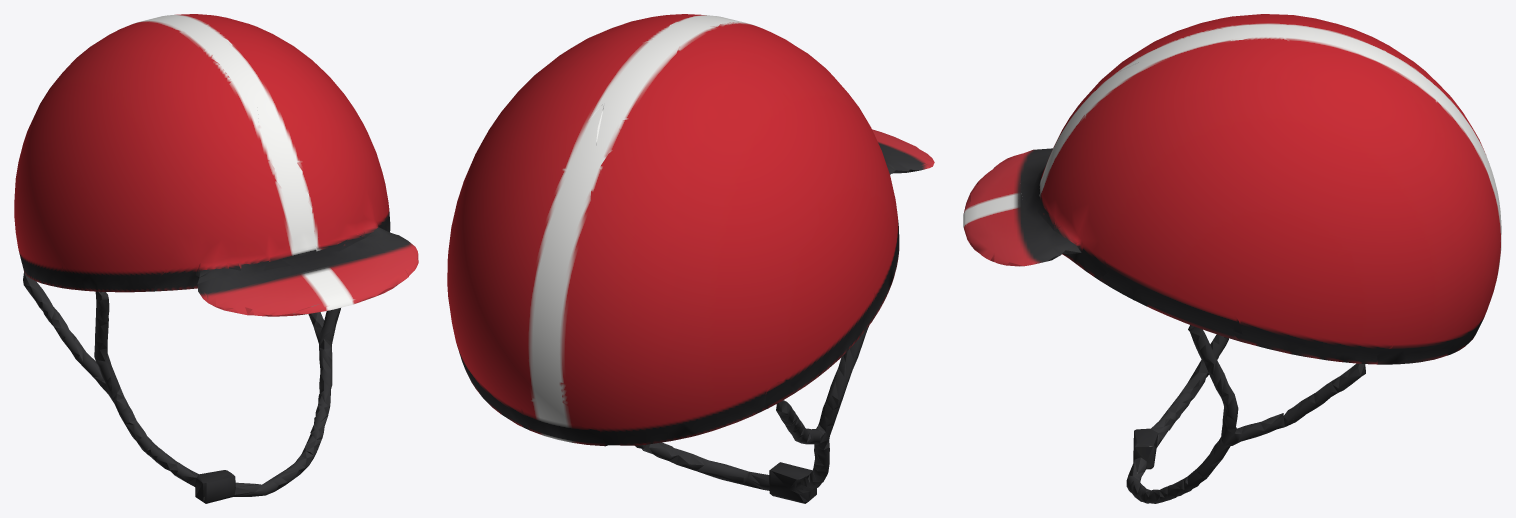
The model's file is mu_bao_hiem_edits.glb.
3 renders of one model, left to right at view 1: azimuth 30°, elevation 25°; view 2: azimuth 150°, elevation 25°; view 3: azimuth 270°, elevation 25°, orthographic. The views are drawn at different scales.
Visible parts, largest first — view 1: mu_bao_hiem_edits; view 2: mu_bao_hiem_edits; view 3: mu_bao_hiem_edits.
Part boxes in pixels (box(x1,y1,x2,y2)): mu_bao_hiem_edits: box(14, 14, 418, 503); mu_bao_hiem_edits: box(447, 14, 934, 503); mu_bao_hiem_edits: box(963, 14, 1501, 503).
Size of the model in its own units: 0.2158 by 0.2764 by 0.2947.
Materials: 1 (1 with a texture image).
